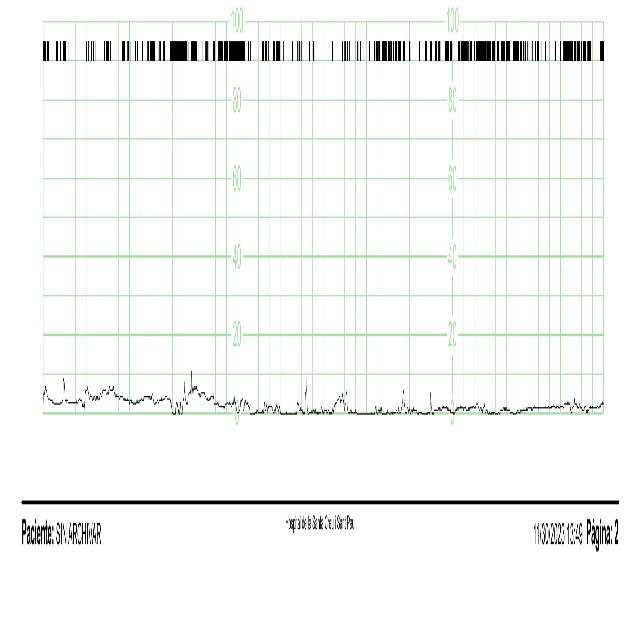contraction: (302, 372, 312, 417)
